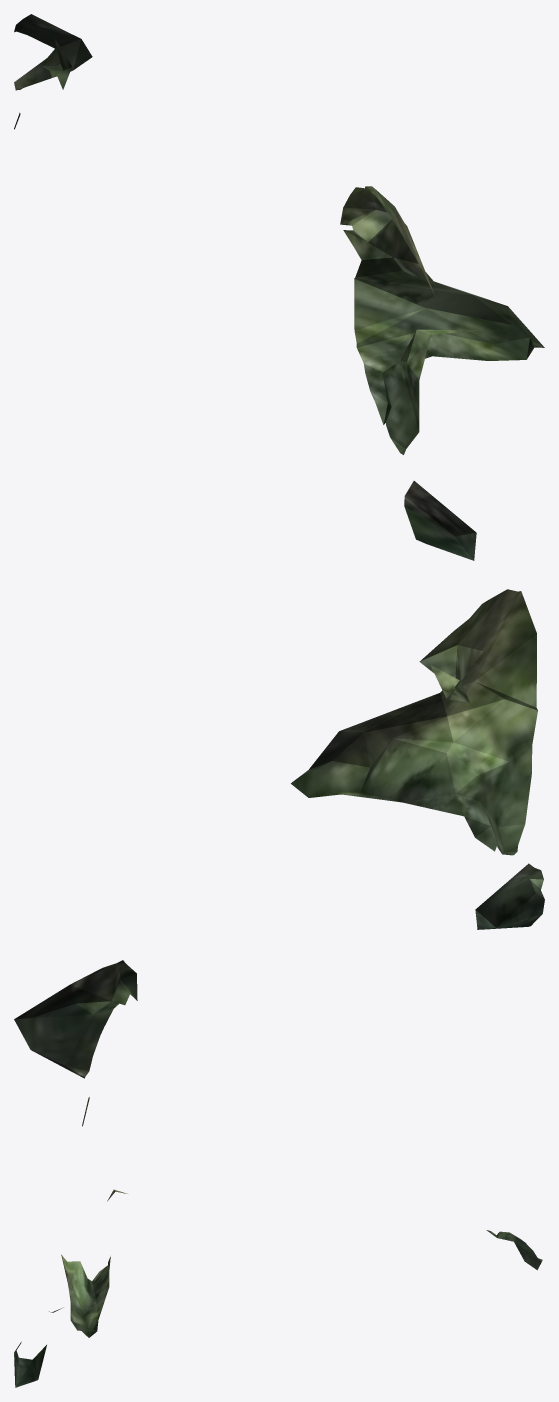
3 renders of one model, top to bottom at view 1: azimuth 30°, elevation 25°; view 2: azimuth 150°, elevation 25°; view 3: azimuth 270°, elevation 25°, orthographic. The views are drawn at different scales.
Bounding box in the file's own units: 9.88 × 19.66 × 43.22.
Materials: 1 (1 with a texture image).
